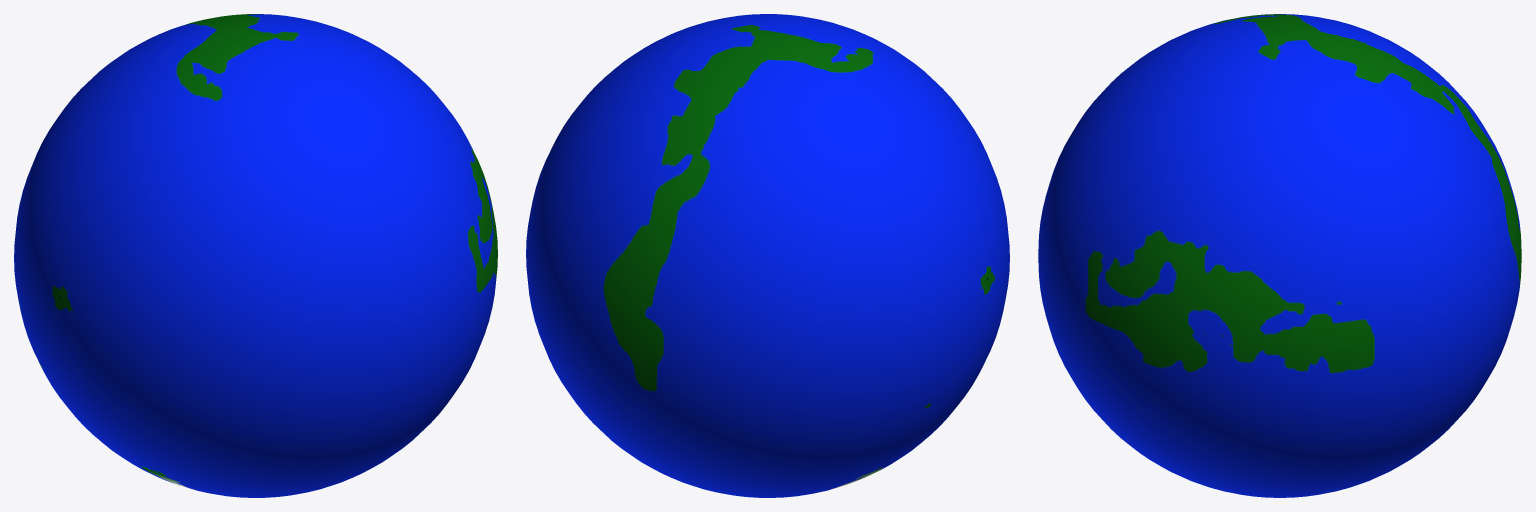
File: planet.obj
The picture shows the model from 3 angles, left to right: view 1: azimuth 30°, elevation 25°; view 2: azimuth 150°, elevation 25°; view 3: azimuth 270°, elevation 25°; orthographic projection.
Visible parts, largest first — view 1: pSphere1; view 2: pSphere1; view 3: pSphere1.
Boxes of the visible parts, x1=… form: pSphere1: x1=14, y1=14, x2=497, y2=497; pSphere1: x1=526, y1=14, x2=1009, y2=497; pSphere1: x1=1038, y1=14, x2=1521, y2=497.
Size of the model in its own units: 2000 by 2000 by 1996.
Materials: 1 (1 with a texture image).
